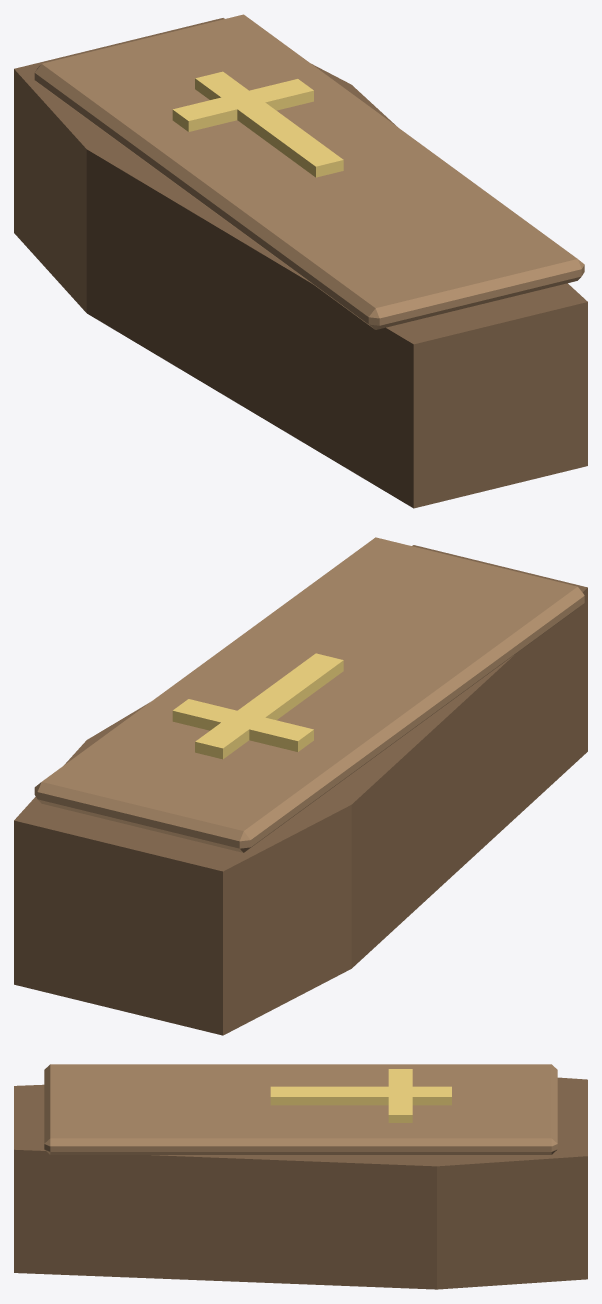
File: Coffin.glb
3 renders of one model, top to bottom at view 1: azimuth 30°, elevation 25°; view 2: azimuth 150°, elevation 25°; view 3: azimuth 270°, elevation 25°, orthographic. The views are drawn at different scales.
Parts seen in each view (by area): view 1: Coffin; view 2: Coffin; view 3: Coffin.
Boxes of the visible parts, <box> form: Coffin: <box>14,14,587,508</box>; Coffin: <box>14,537,587,1035</box>; Coffin: <box>14,1064,587,1289</box>.
Size of the model in its own units: 0.76 by 0.545 by 1.9.
